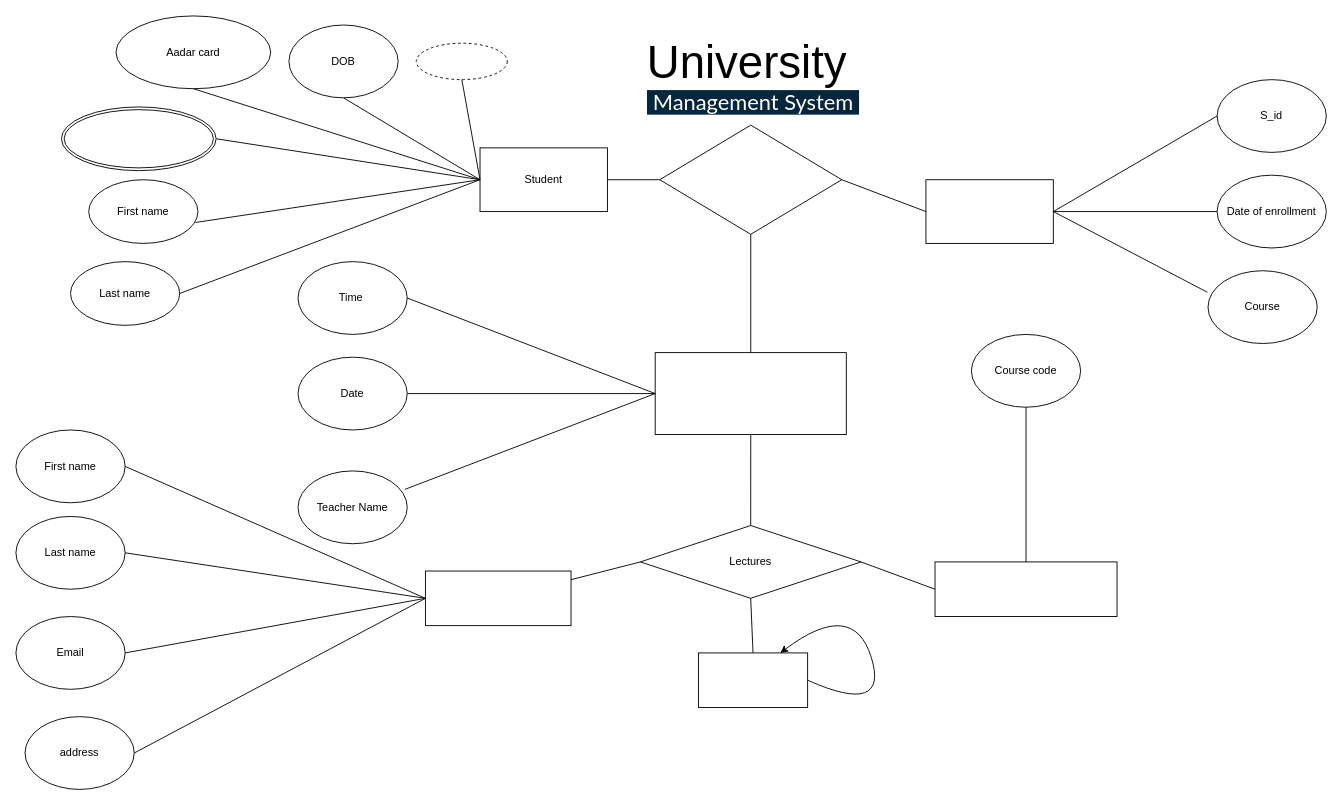
Image size: 1342x805. Some labels were removed from this diagram. The centre of each missing label's shape, as x and y in pixels:
"Age" goes at [461,61].
"Lecturer" goes at [498,598].
"MANAGEMENT CELL EMPLOYEES" goes at [753,680].
"Mobile no" goes at [138,138].
"Subjects" goes at [1025,589].
"Take Admission" goes at [750,179].
"TIME TABLE" goes at [750,393].
"University" goes at [989,211].
